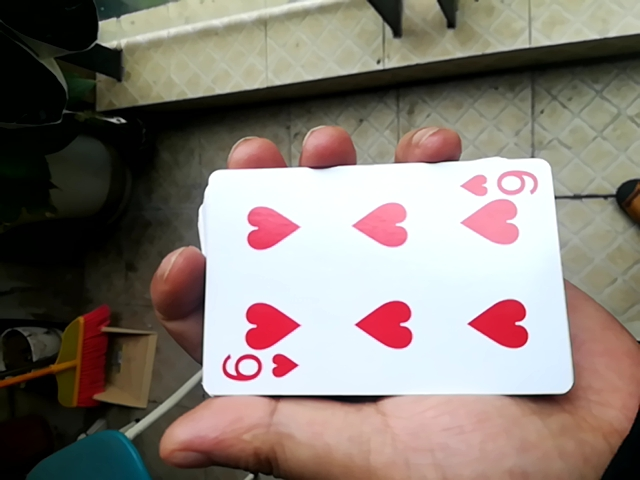hx 6: (193, 159, 570, 401)
